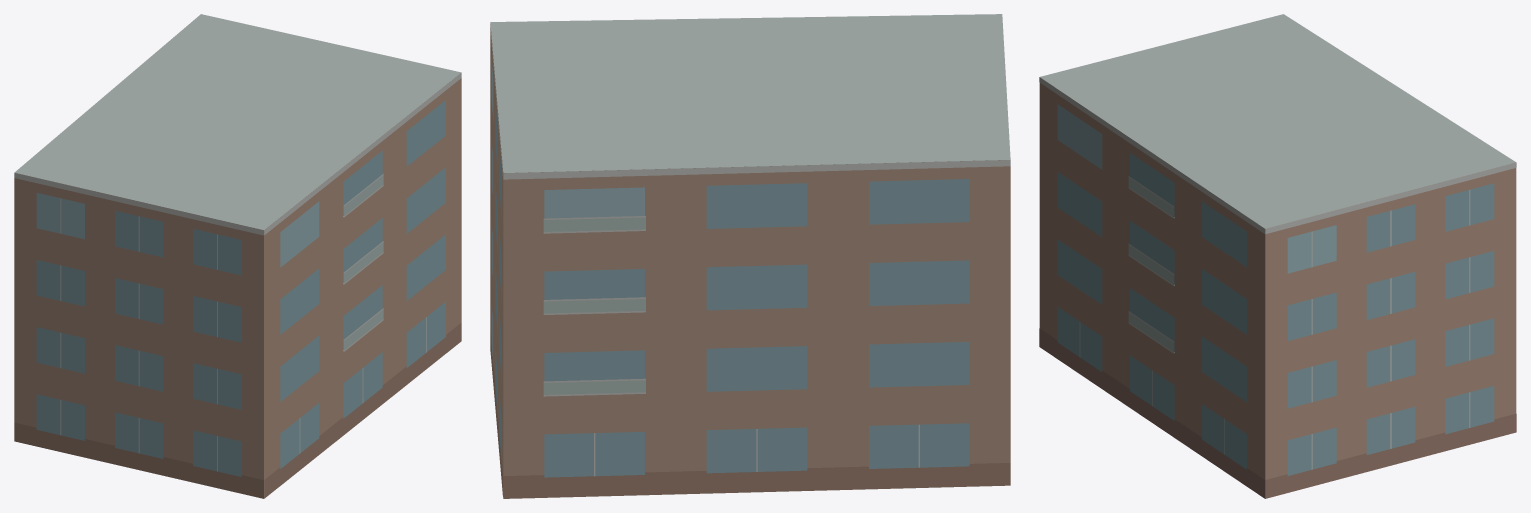
Rendered from survey-upis-32501194.glb.
3 renders of one model, left to right at view 1: azimuth 30°, elevation 25°; view 2: azimuth 150°, elevation 25°; view 3: azimuth 270°, elevation 25°, orthographic. The views are drawn at different scales.
Parts seen in each view (by area): view 1: survey-upis-32501194.tmp; view 2: survey-upis-32501194.tmp; view 3: survey-upis-32501194.tmp.
Part boxes in pixels (bbox=[...]): survey-upis-32501194.tmp: bbox=[14, 14, 461, 498]; survey-upis-32501194.tmp: bbox=[490, 14, 1010, 498]; survey-upis-32501194.tmp: bbox=[1039, 14, 1516, 498].
Bounding box in the file's own units: 20.83 × 12.2 × 19.54.
